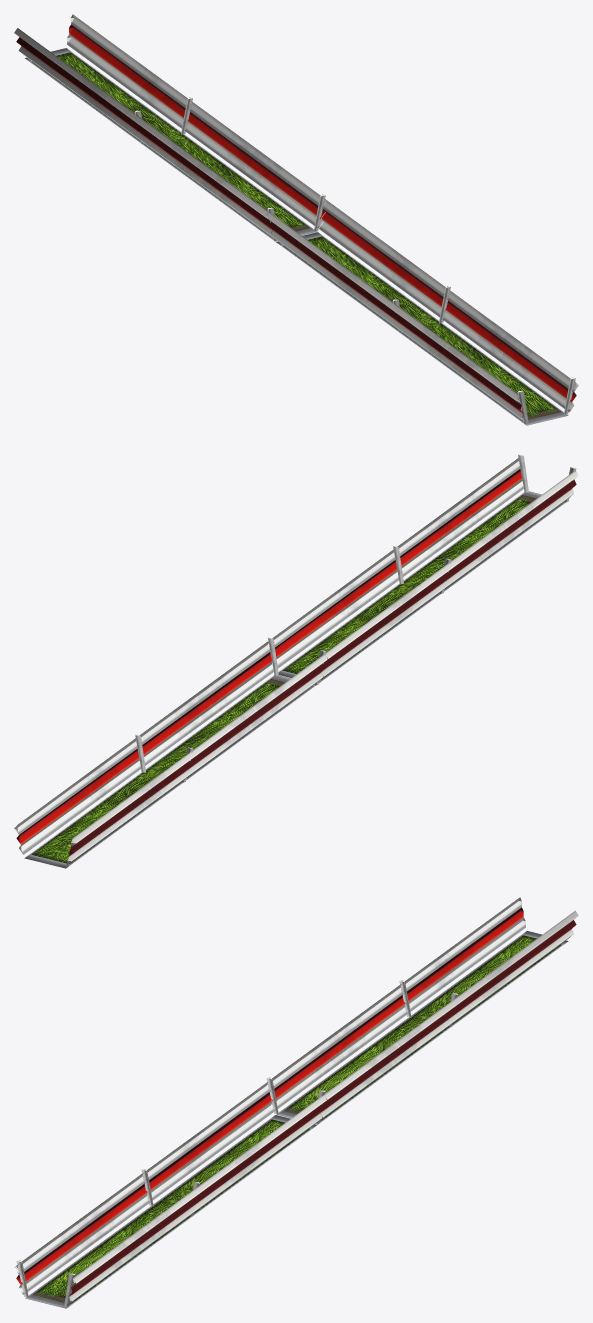
The model's file is guardrail_module.fbx.
3 renders of one model, top to bottom at view 1: azimuth 30°, elevation 25°; view 2: azimuth 150°, elevation 25°; view 3: azimuth 330°, elevation 25°, orthographic.
Parts seen in each view (by area): view 1: guardrail_module; view 2: guardrail_module; view 3: guardrail_module.
Boxes of the visible parts, <box> form: guardrail_module: <box>14,14,578,425</box>; guardrail_module: <box>14,454,578,868</box>; guardrail_module: <box>14,897,578,1308</box>.
Size of the model in its own units: 357 by 193 by 5000.
